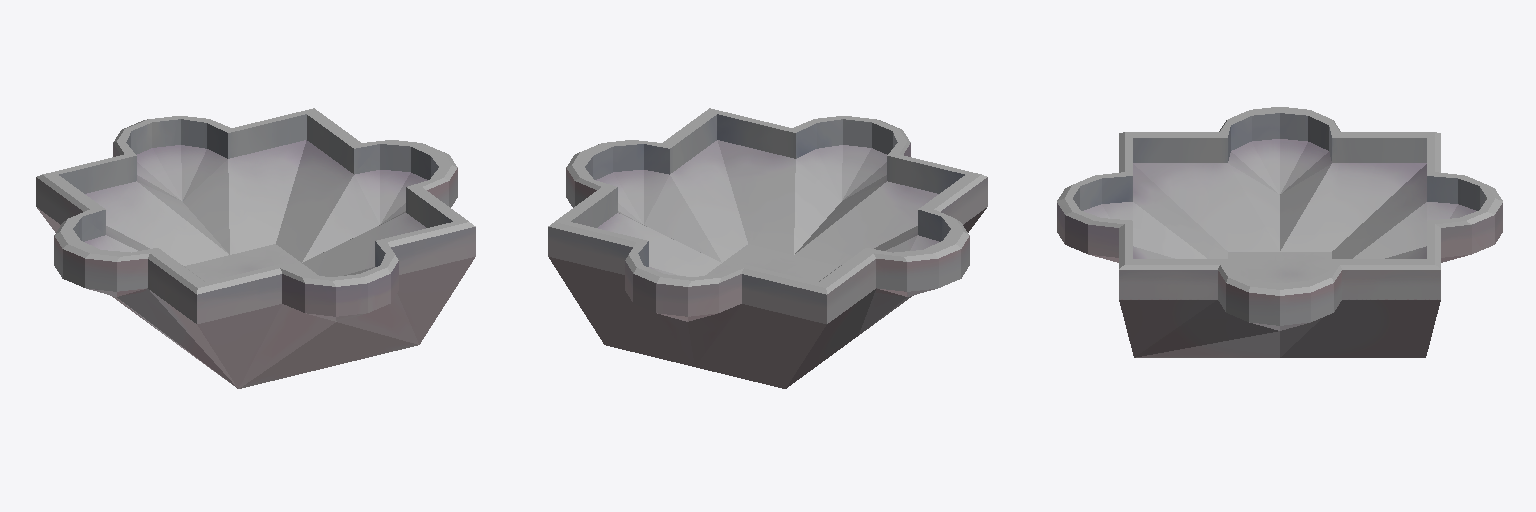
The picture shows the model from 3 angles: view 1: azimuth 30°, elevation 25°; view 2: azimuth 150°, elevation 25°; view 3: azimuth 270°, elevation 25°; orthographic projection.
Parts seen in each view (by area): view 1: Cube_Cube.004; view 2: Cube_Cube.004; view 3: Cube_Cube.004.
Part boxes in pixels (bbox=[...]): Cube_Cube.004: bbox=[36, 108, 475, 388]; Cube_Cube.004: bbox=[548, 108, 987, 388]; Cube_Cube.004: bbox=[1057, 107, 1502, 357].
Bounding box in the file's own units: 7.18 × 2.05 × 7.18.
1 materials, 1 textured.